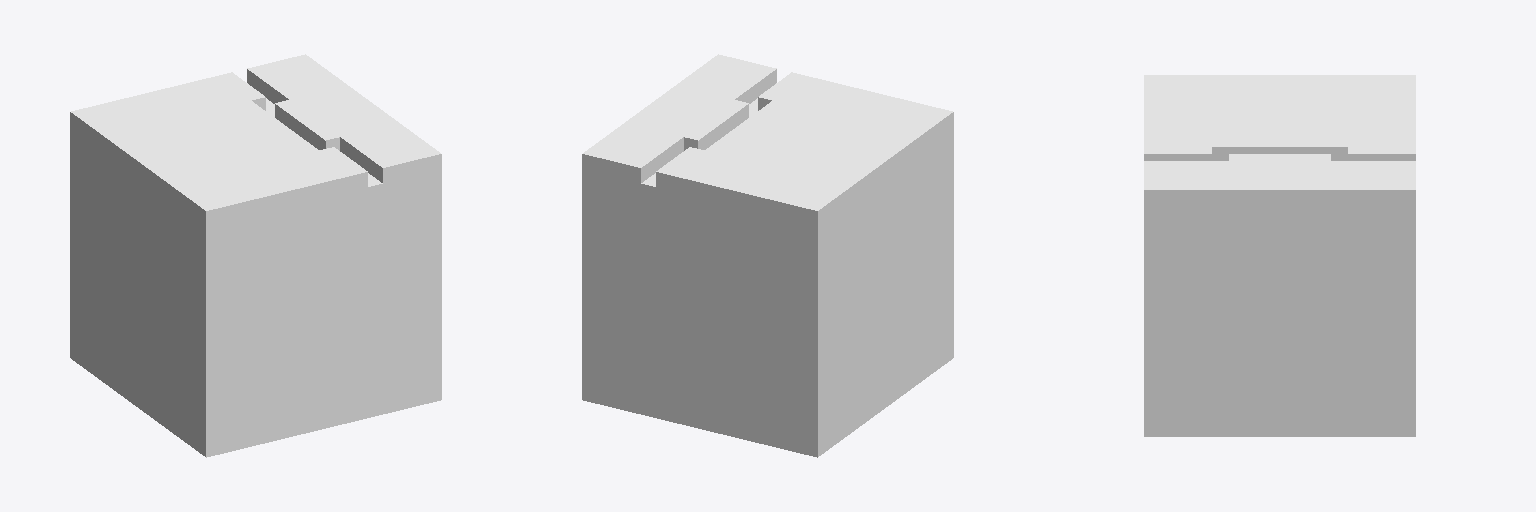
The model's file is grassStone.obj.
3 views of the same model, side by side, from view 1: azimuth 30°, elevation 25°; view 2: azimuth 150°, elevation 25°; view 3: azimuth 270°, elevation 25° (orthographic).
Size of the model in its own units: 16 by 16 by 16.